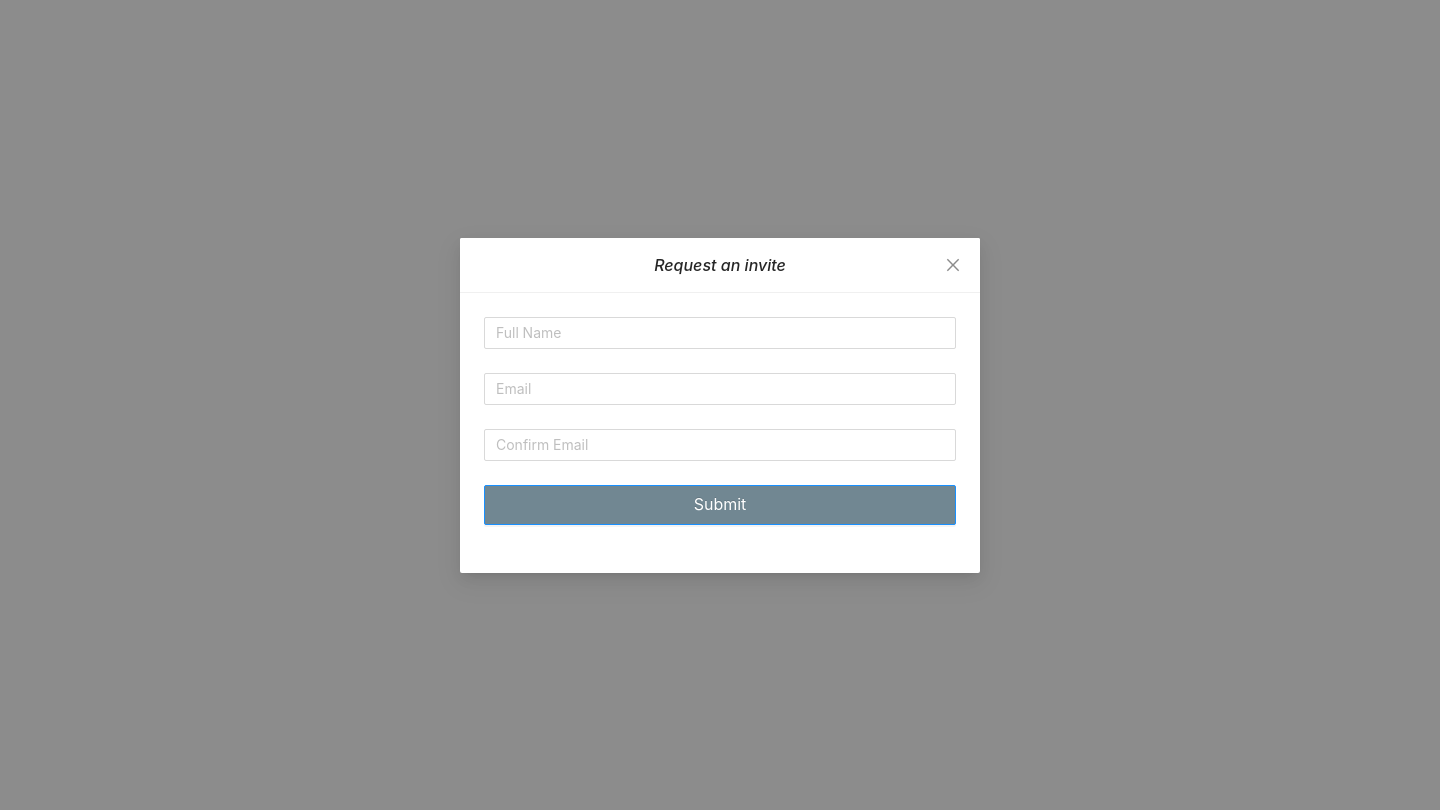
From Modal test › error message display - empty submission
The width and height of the screenshot is (1440, 810).
Click the button with test id "submit": (720, 504) [484, 484, 956, 524]
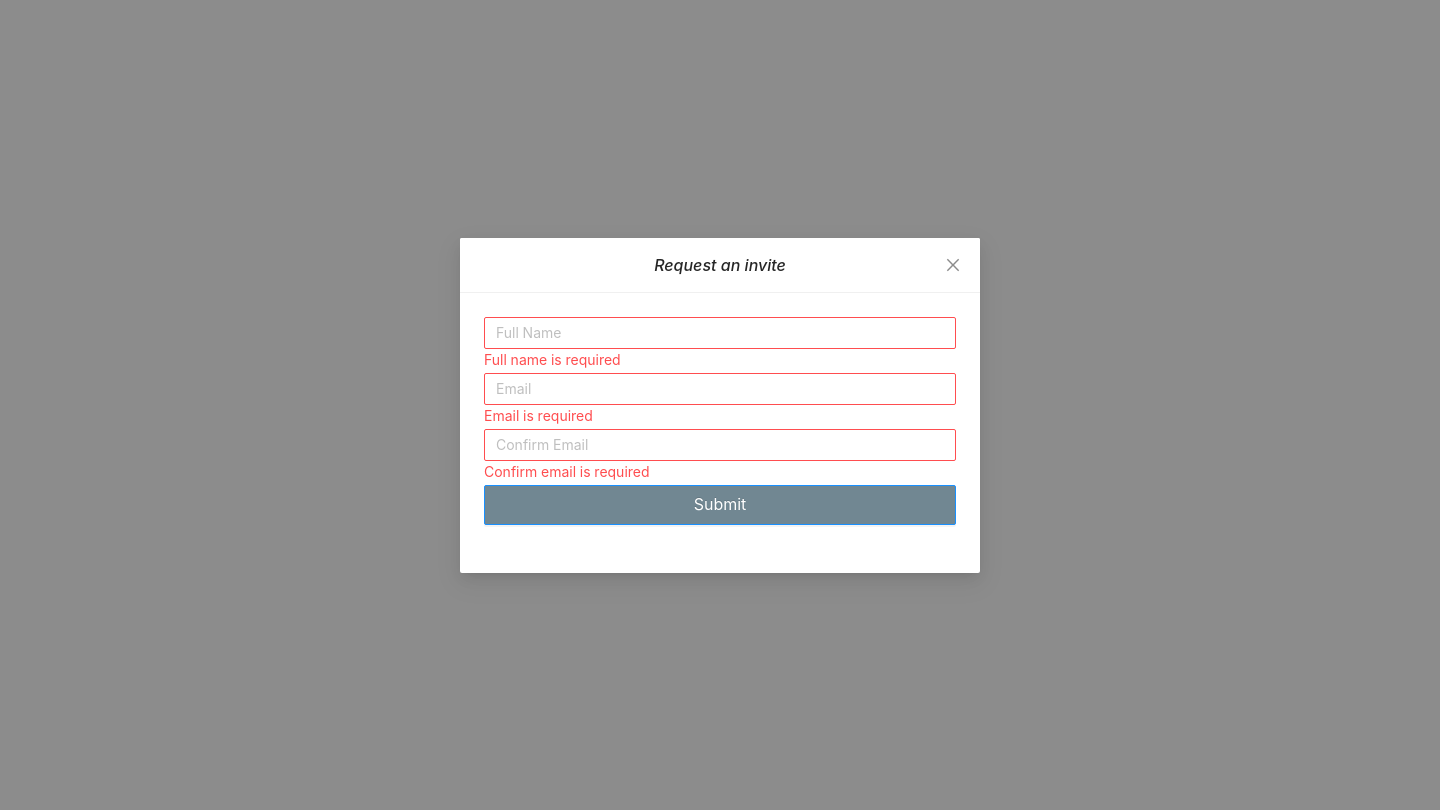
Now the text "Full name is required" is shown, box [484, 350, 621, 368]
Now the text "Email is required" is shown, box [484, 406, 593, 424]
Now the text "Confirm email is required" is shown, box [484, 462, 650, 480]
